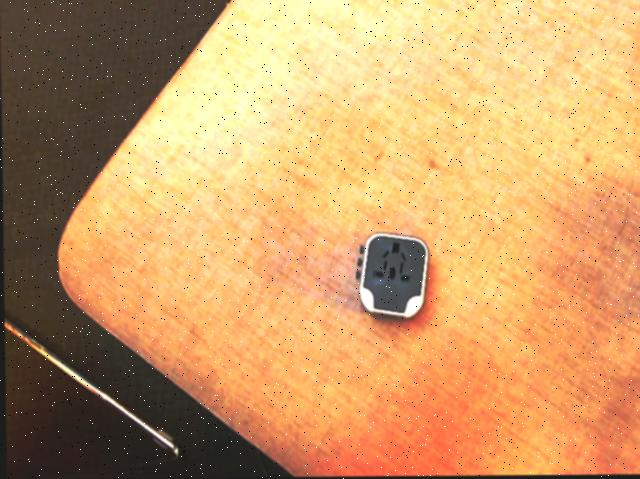adapter: (354, 233, 429, 319)
